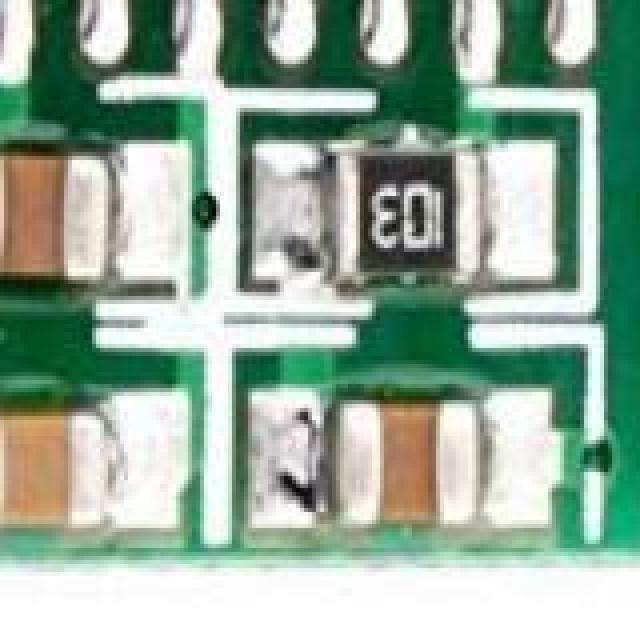capacitor: (296, 404, 520, 524), (0, 156, 160, 316), (0, 416, 148, 556)
resistor: (304, 148, 516, 258)
